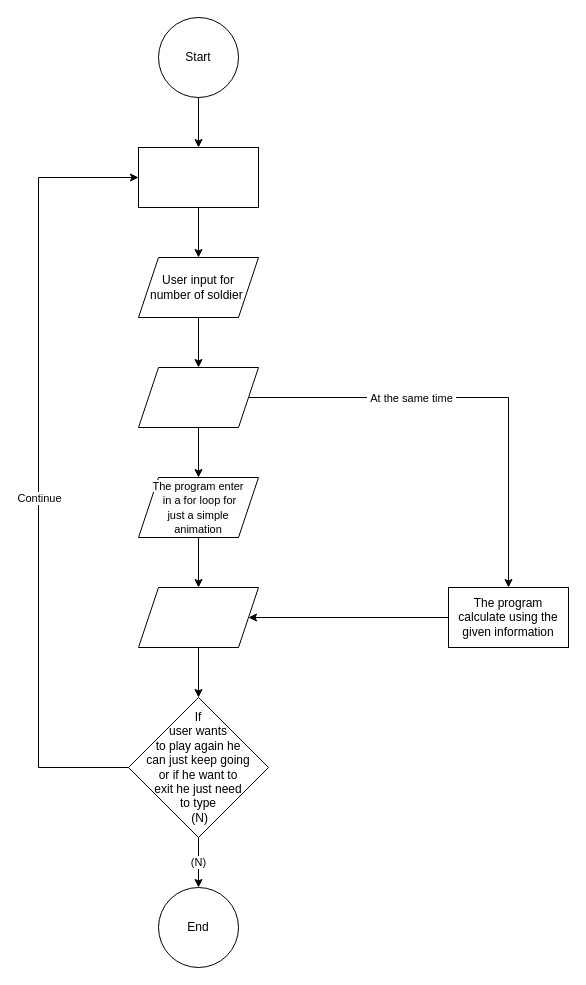
The diagram is 586 pixels wide and 985 high, and some of its shapes have lost their labels. The shapes that lost their labels are listed below. From the top down, each one's centre as x and y in pixels, then its label:
point 198,177: the program starts with a while loop
point 198,397: User input for the execution interval
point 198,617: The result is shown to the user
